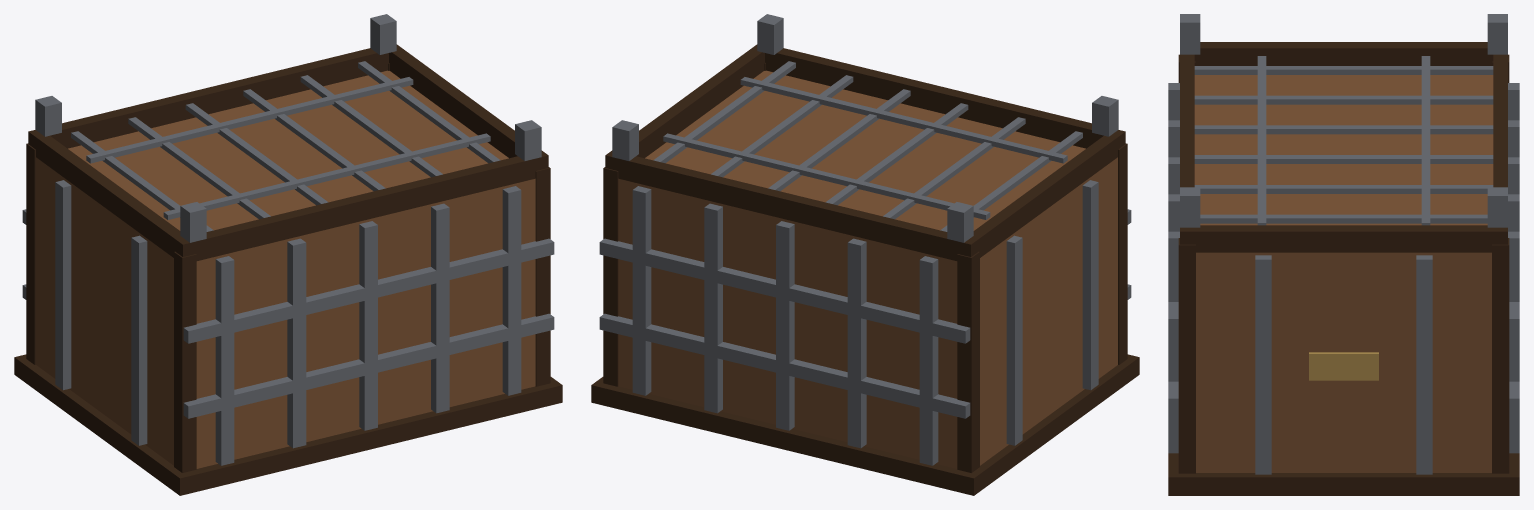
File: SN_Cargo_Medium_Hold.glb
3 views of the same model, side by side, from view 1: azimuth 30°, elevation 25°; view 2: azimuth 150°, elevation 25°; view 3: azimuth 270°, elevation 25° (orthographic). The views are drawn at different scales.
Parts seen in each view (by area): view 1: SN_Cargo_Medium_Hold; view 2: SN_Cargo_Medium_Hold; view 3: SN_Cargo_Medium_Hold.
Part boxes in pixels (box(x1,y1,x2,y2)): SN_Cargo_Medium_Hold: box(14, 14, 562, 495); SN_Cargo_Medium_Hold: box(591, 14, 1139, 495); SN_Cargo_Medium_Hold: box(1168, 14, 1519, 495).
Bounding box in the file's own units: 3.2 × 2.2 × 2.4.
